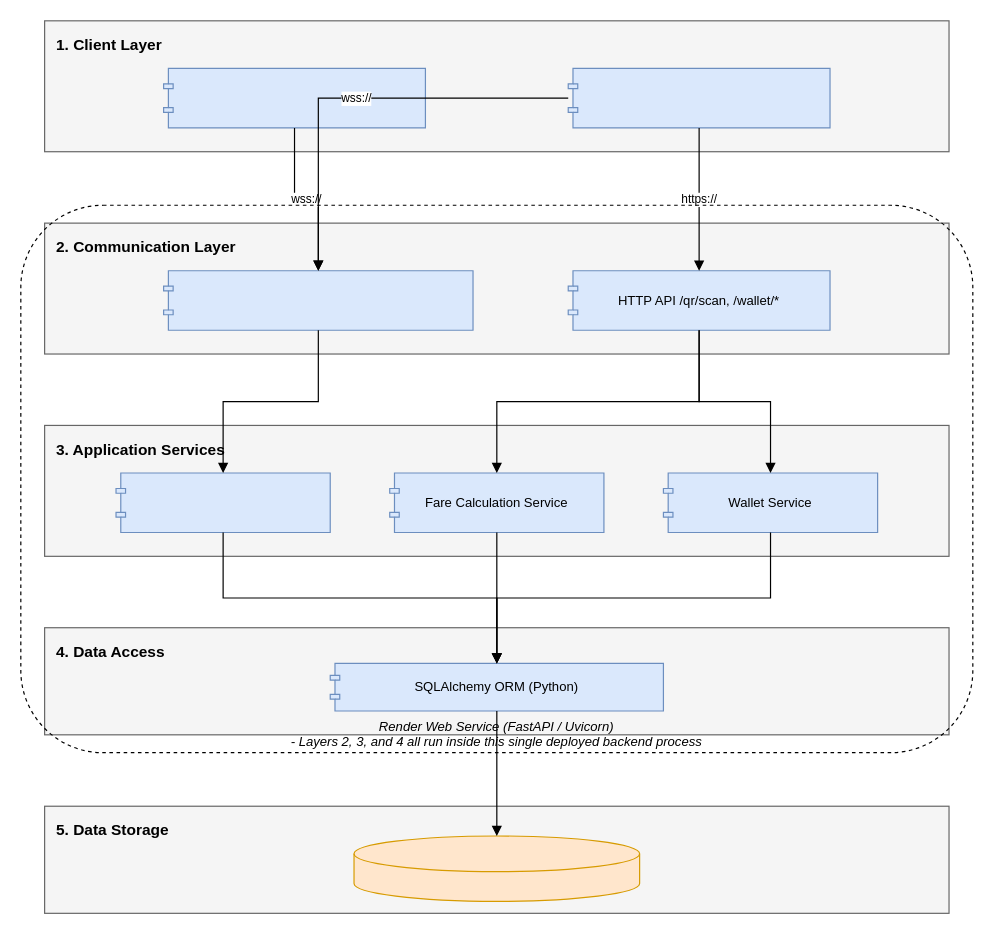
The diagram is 994 pixels wide and 934 high, and some of its shapes have lost their labels. The shapes that lost their labels are listed below. From the top down, each one's centre as x and y in pixels, then its label:
the point at 293,97: Driver App (Flutter / Dart)
the point at 698,97: Passenger App (Flutter / Dart)
the point at 317,300: WebSocket Relay /ws/driver, /ws/passenger
the point at 222,502: Route Matching Service
the point at 496,868: PostgreSQL Database (Render)
